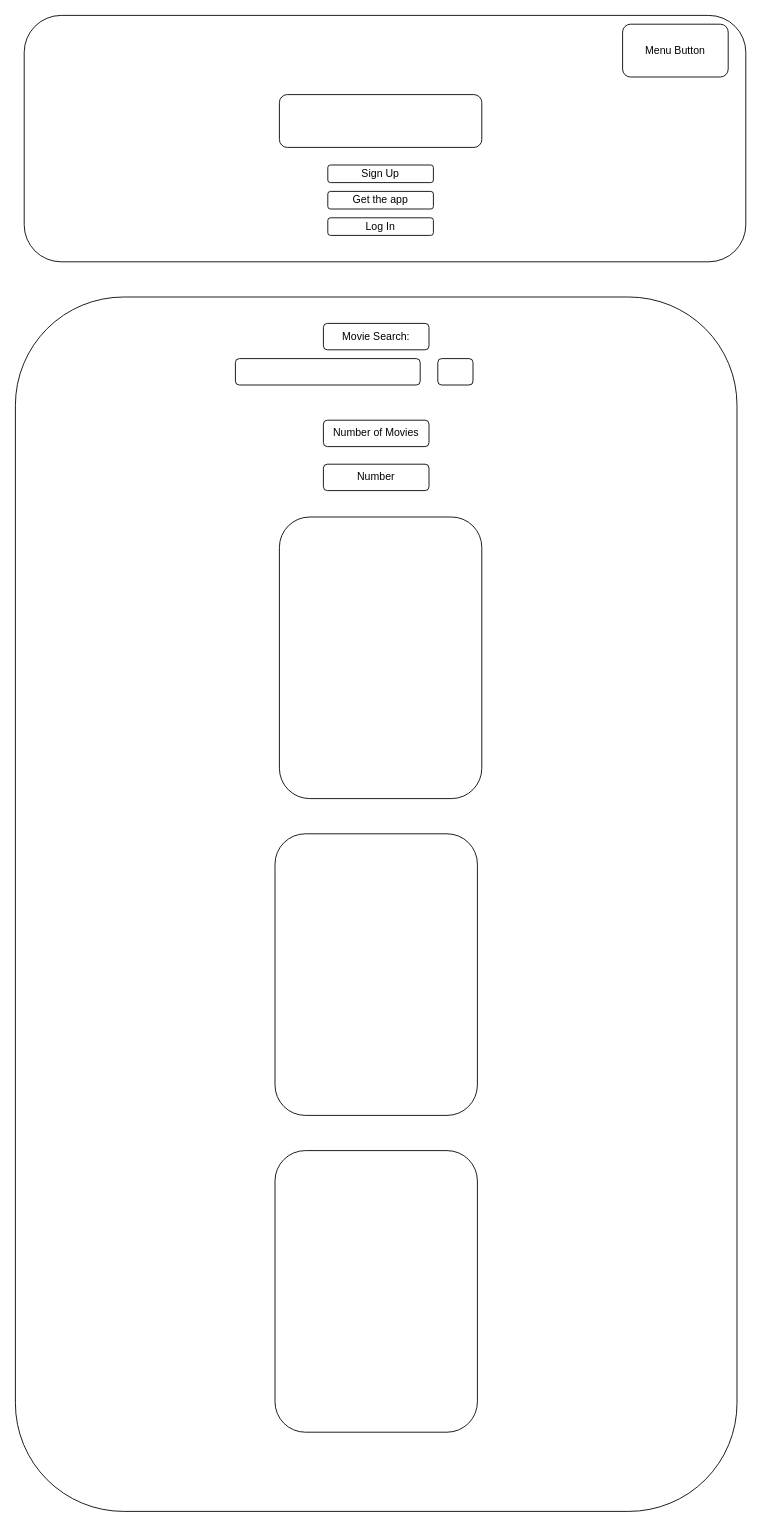
This 761x1527 diagram has some shape labels left out. The box of each missing label's shape, as (x1, y1, x2, y2) in pixels:
Search: (235, 358, 420, 385)
Submit: (437, 358, 473, 385)
WJB Search Engine: (279, 94, 482, 147)
